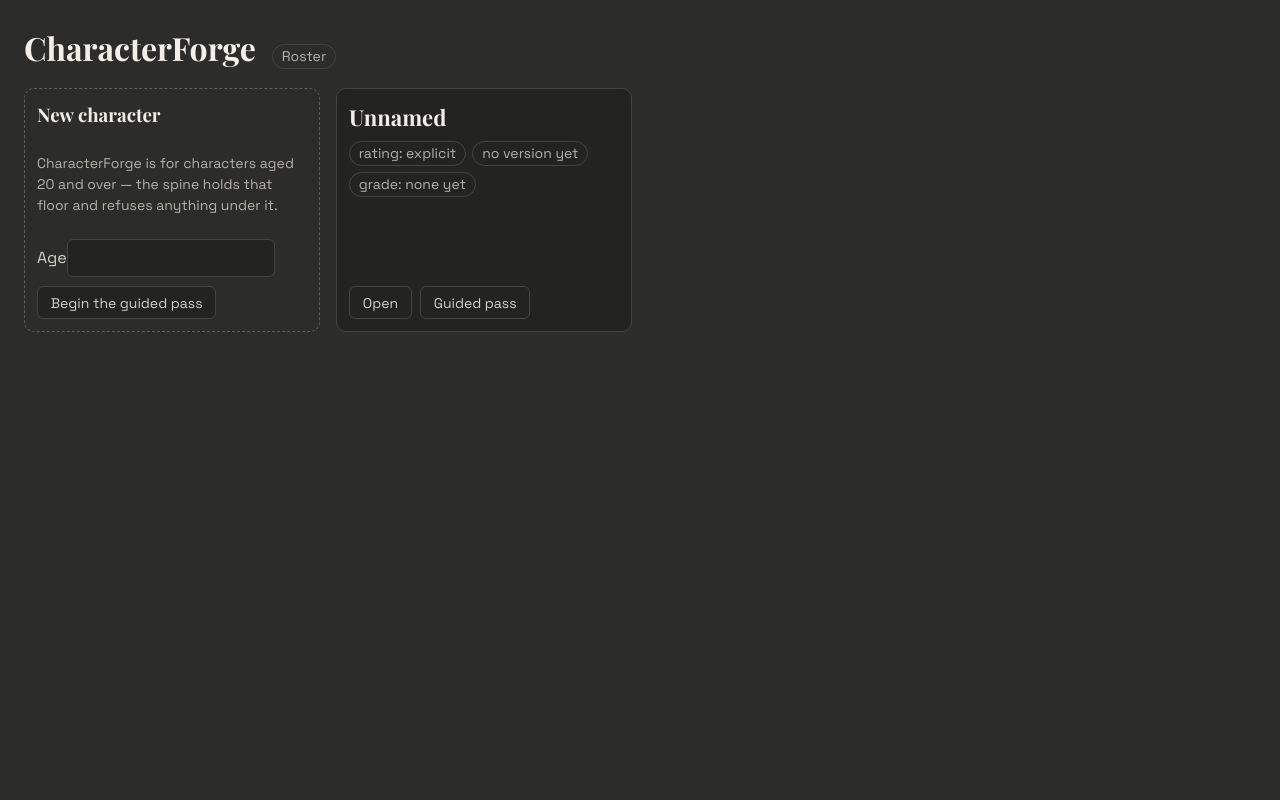
the guided walk (§F.2) › skips the name to the first served group, one group per screen
In the number field labelled "Age": [171, 258] box top-left (67, 239), bottom-right (275, 277), type "25"
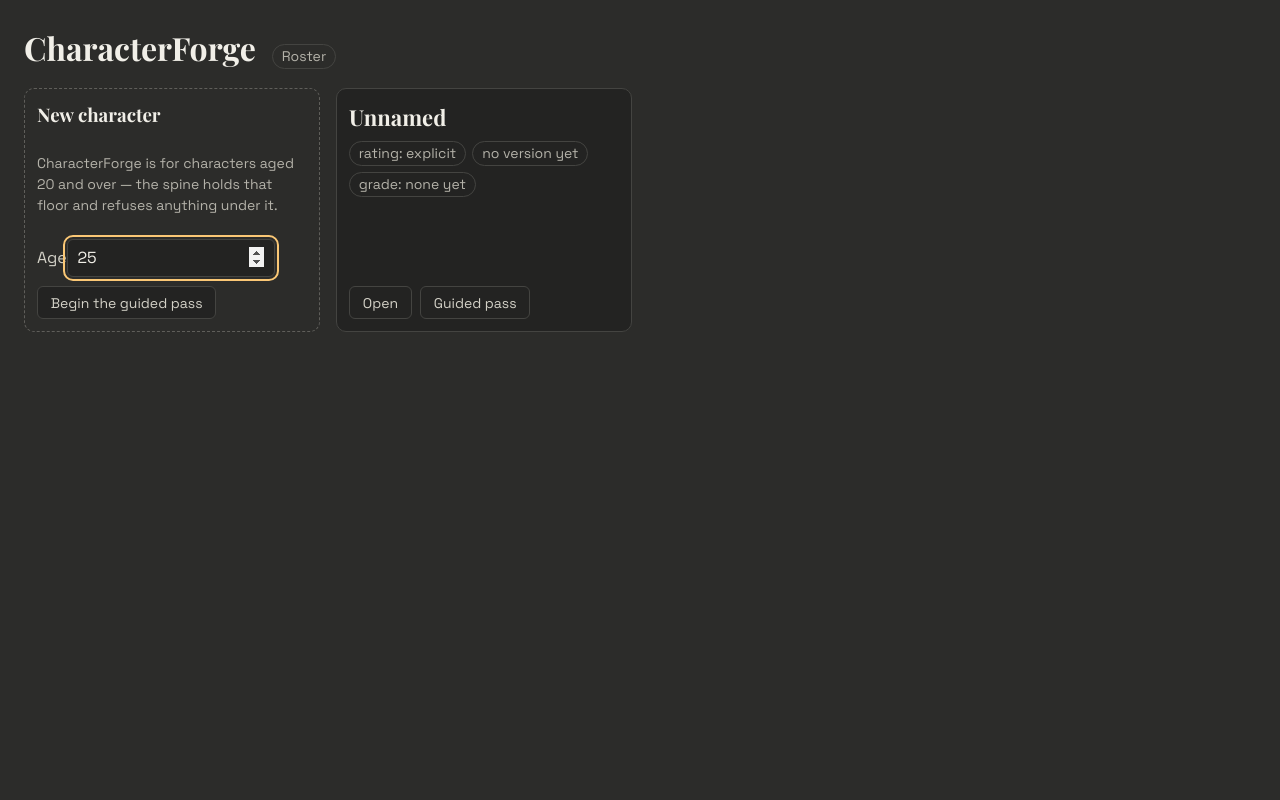
Click the button "Begin the guided pass": [127, 303] box top-left (37, 286), bottom-right (216, 319)
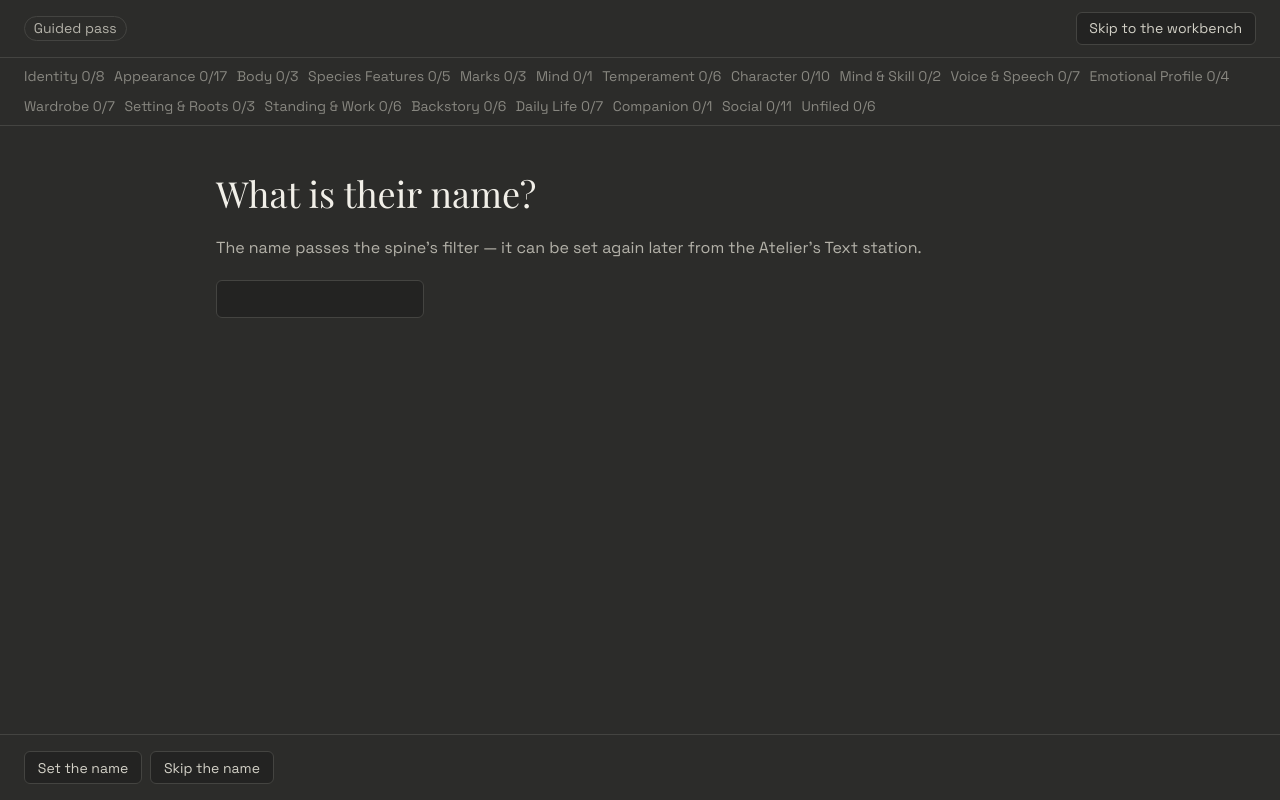
Click the button "Skip the name": [212, 768] box top-left (150, 751), bottom-right (274, 784)
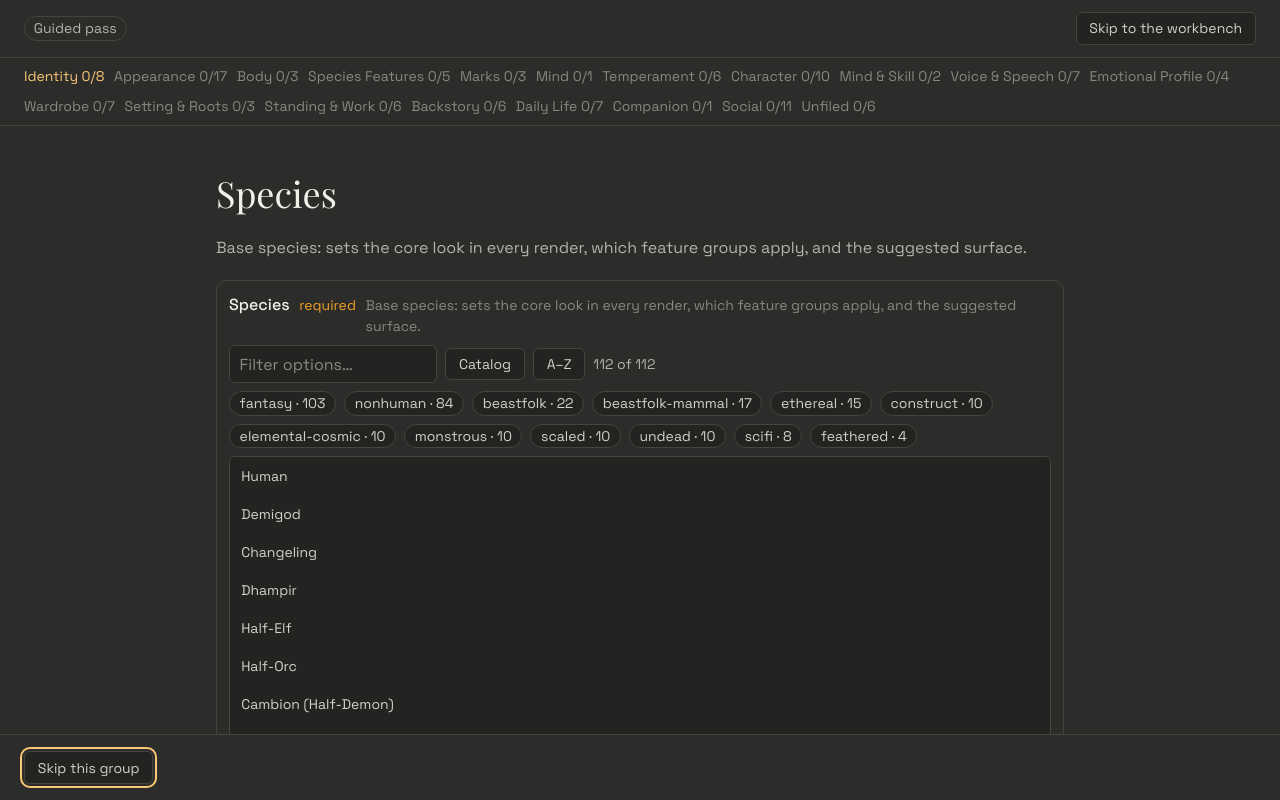
Expected: the 1st text "Species" is shown, top-left (216, 169), bottom-right (337, 217)
